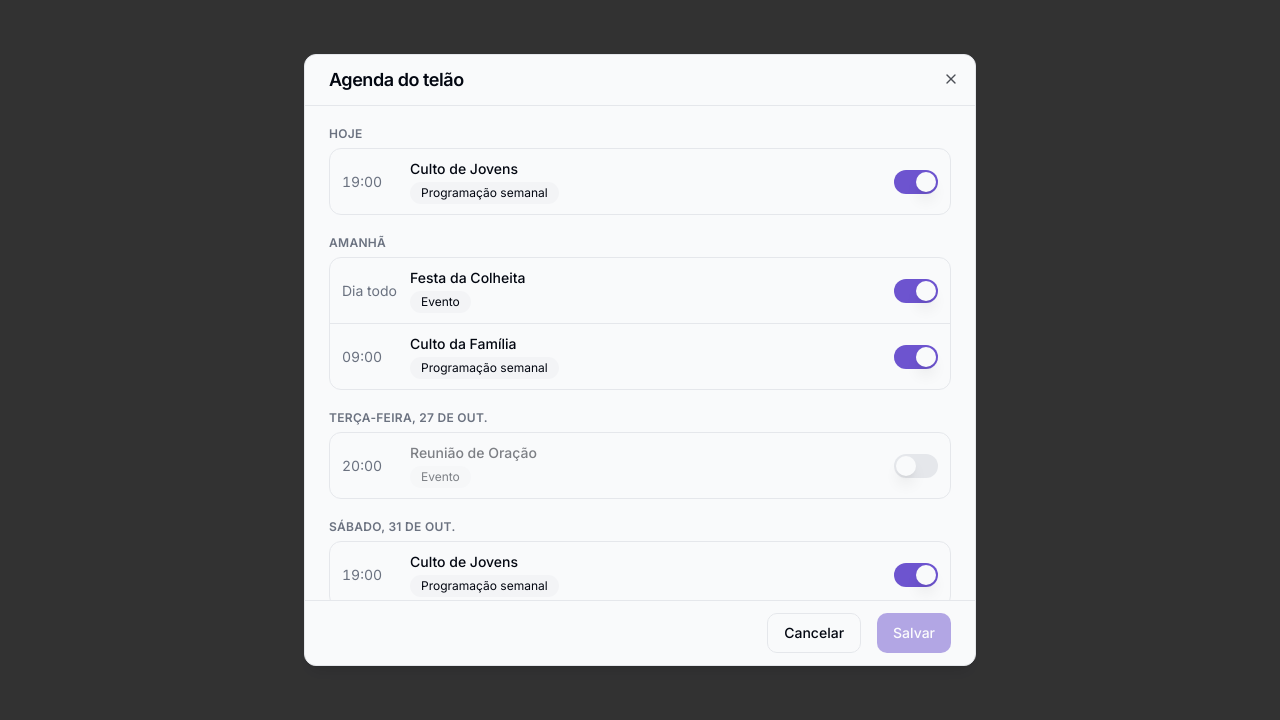
Test: ProjectionAgendaSheet › Abrir Eventos com alteração pendente pede confirmação antes de sair
The image size is (1280, 720).
Click the switch named "Festa da Colheita".
click(916, 290)  # box [894, 278, 938, 302]
(page scrolled)
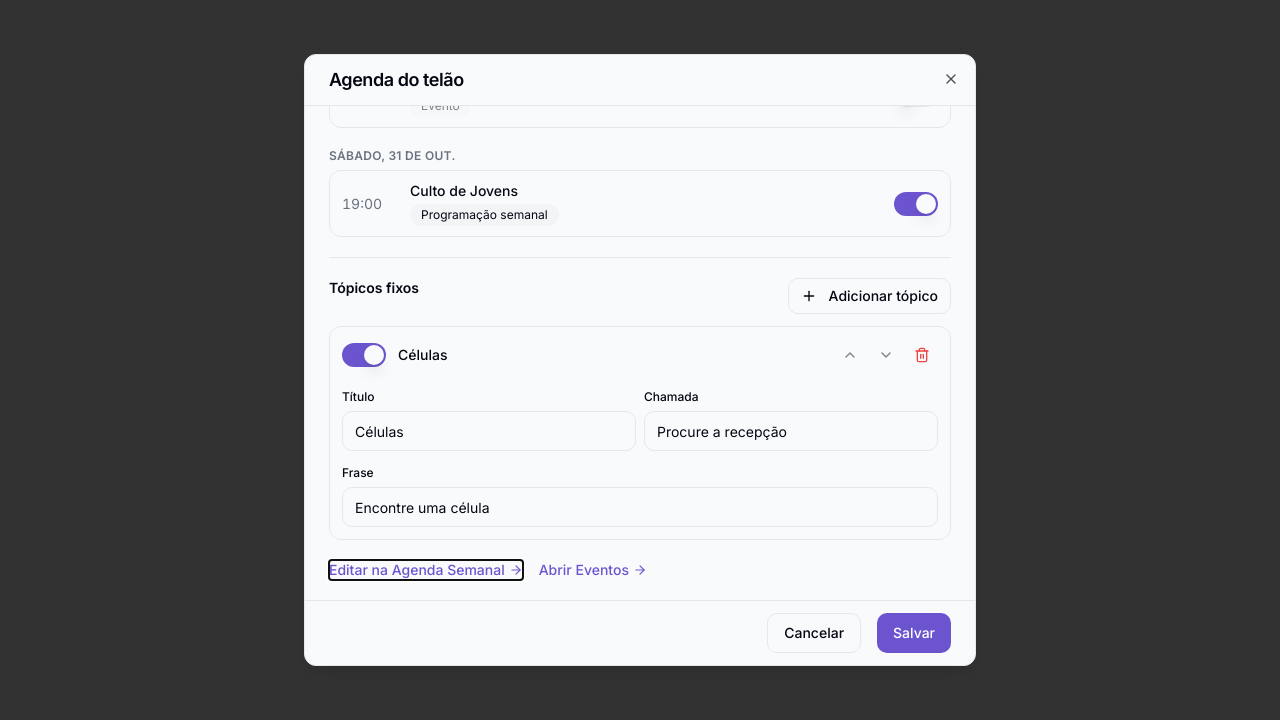
Click the button "Abrir Eventos".
click(593, 570)  # box [539, 560, 647, 580]
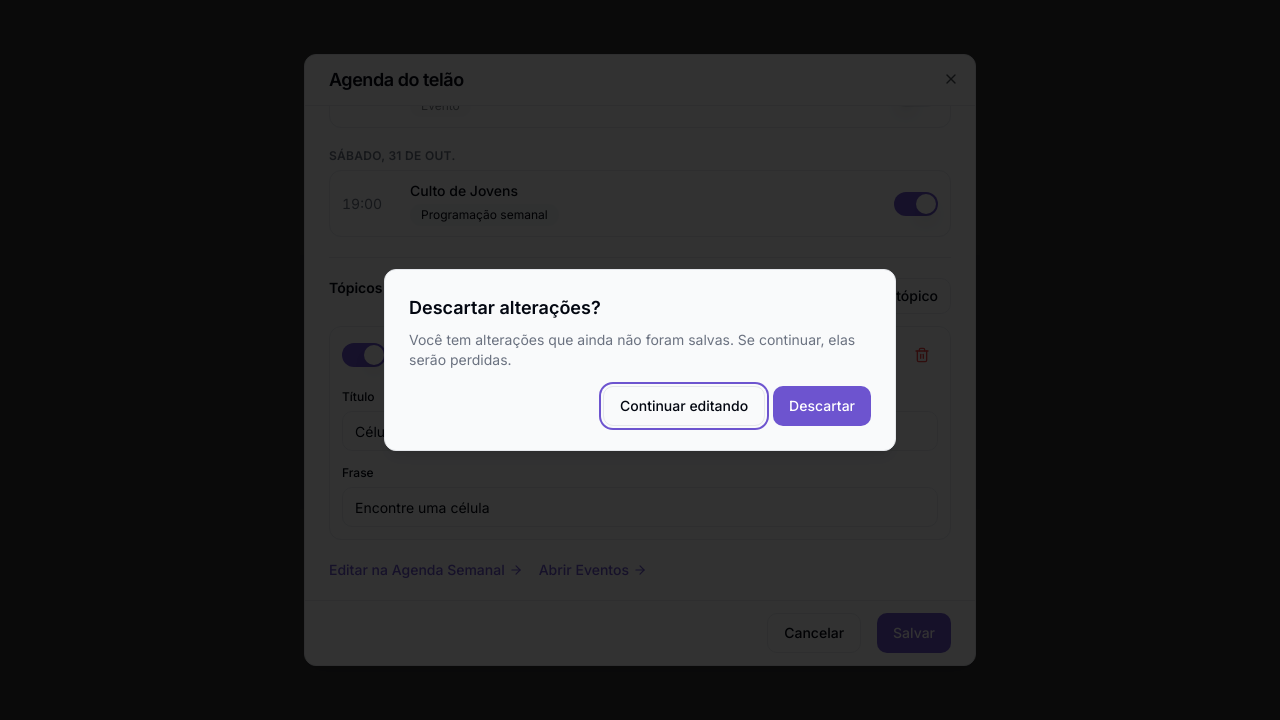
Expected: the text "Página de eventos" is not shown
Expected: the heading "Descartar alterações?" is shown, [409, 297, 601, 318]
Click the button "Descartar".
click(822, 406)  # box [773, 386, 871, 426]
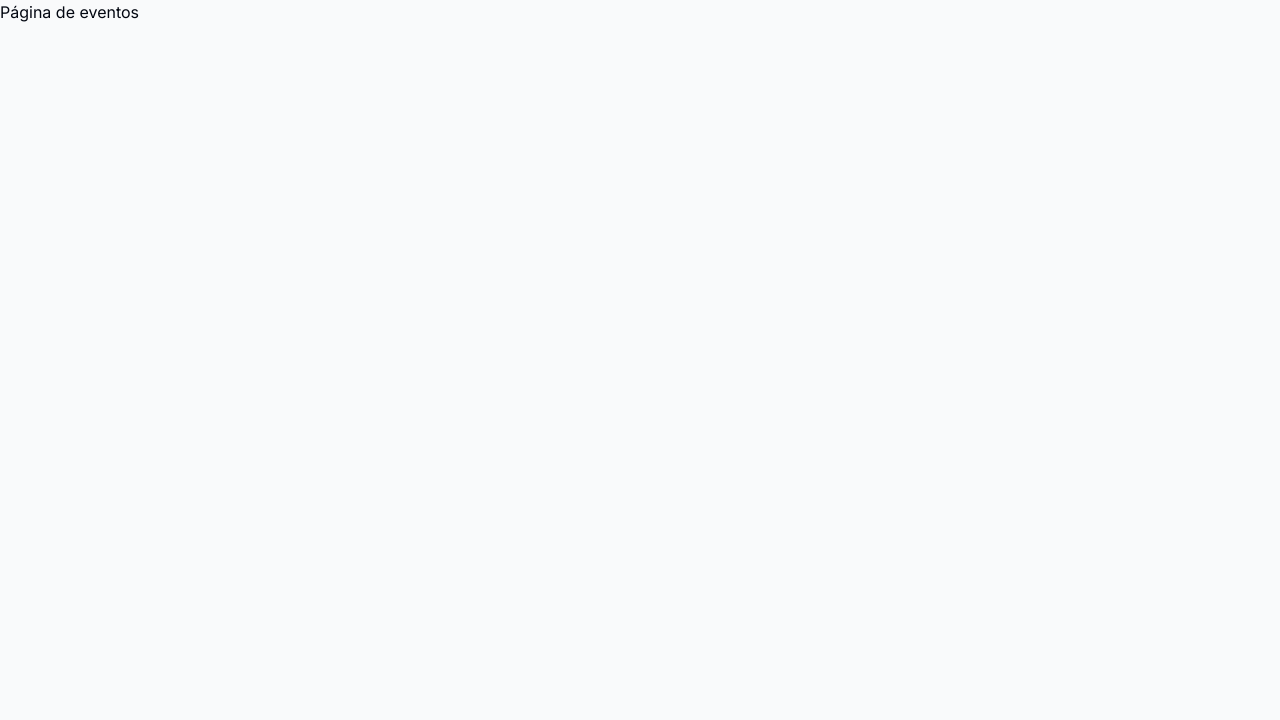
Expected: the text "Página de eventos" is shown, [0, 2, 139, 22]
